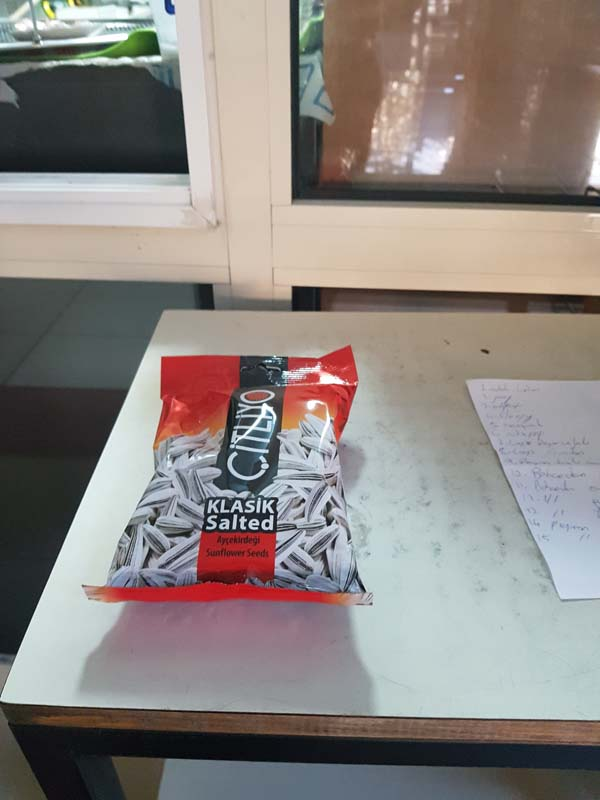citliyorklasik: (82, 340, 389, 611)
